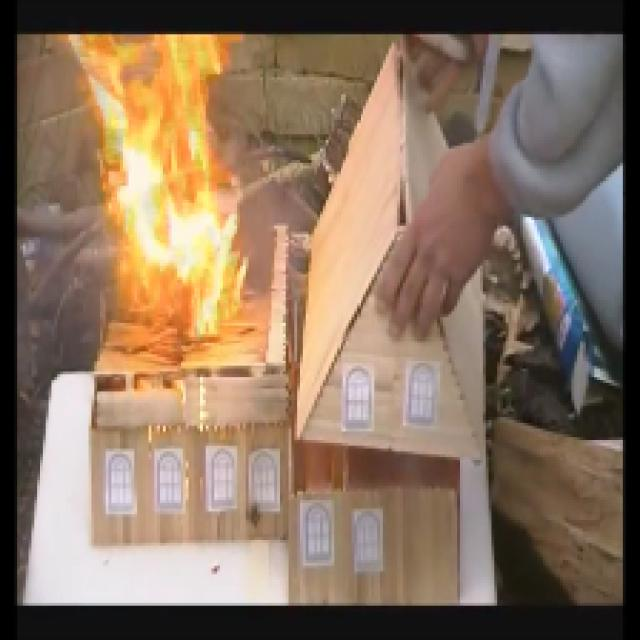fire: (64, 33, 250, 338)
